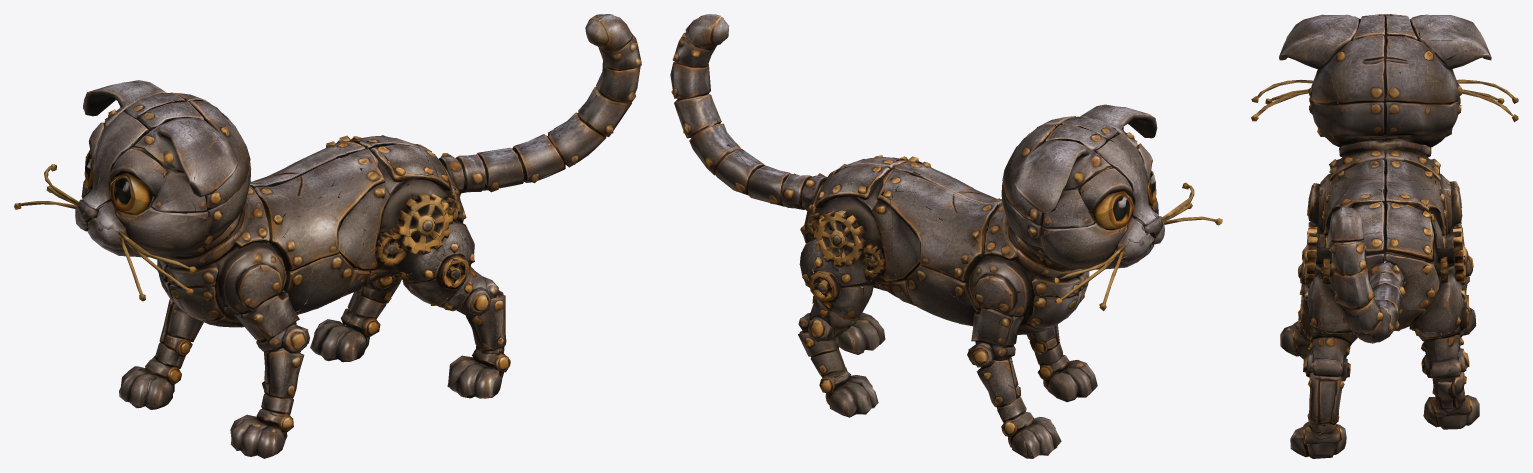
3 renders of one model, left to right at view 1: azimuth 30°, elevation 25°; view 2: azimuth 150°, elevation 25°; view 3: azimuth 270°, elevation 25°, orthographic. The views are drawn at different scales.
Parts seen in each view (by area): view 1: tripo_node_9375bfe5-1d1b-49ad-8558-6b9ae2d25bbc; view 2: tripo_node_9375bfe5-1d1b-49ad-8558-6b9ae2d25bbc; view 3: tripo_node_9375bfe5-1d1b-49ad-8558-6b9ae2d25bbc.
Part boxes in pixels (bbox=[...]): tripo_node_9375bfe5-1d1b-49ad-8558-6b9ae2d25bbc: bbox=[14, 14, 641, 458]; tripo_node_9375bfe5-1d1b-49ad-8558-6b9ae2d25bbc: bbox=[670, 14, 1222, 458]; tripo_node_9375bfe5-1d1b-49ad-8558-6b9ae2d25bbc: bbox=[1251, 14, 1518, 458].
Bounding box in the file's own units: 0.9671 × 0.5589 × 0.4427.
1 material, 1 textured.
